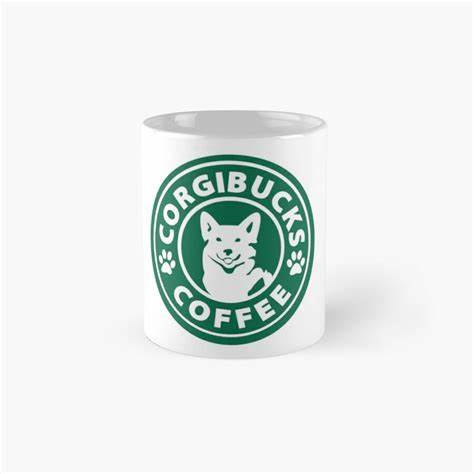starbucks Fake: (143, 150, 329, 354)
